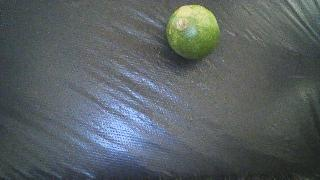DESECHO: (166, 5, 220, 59)
